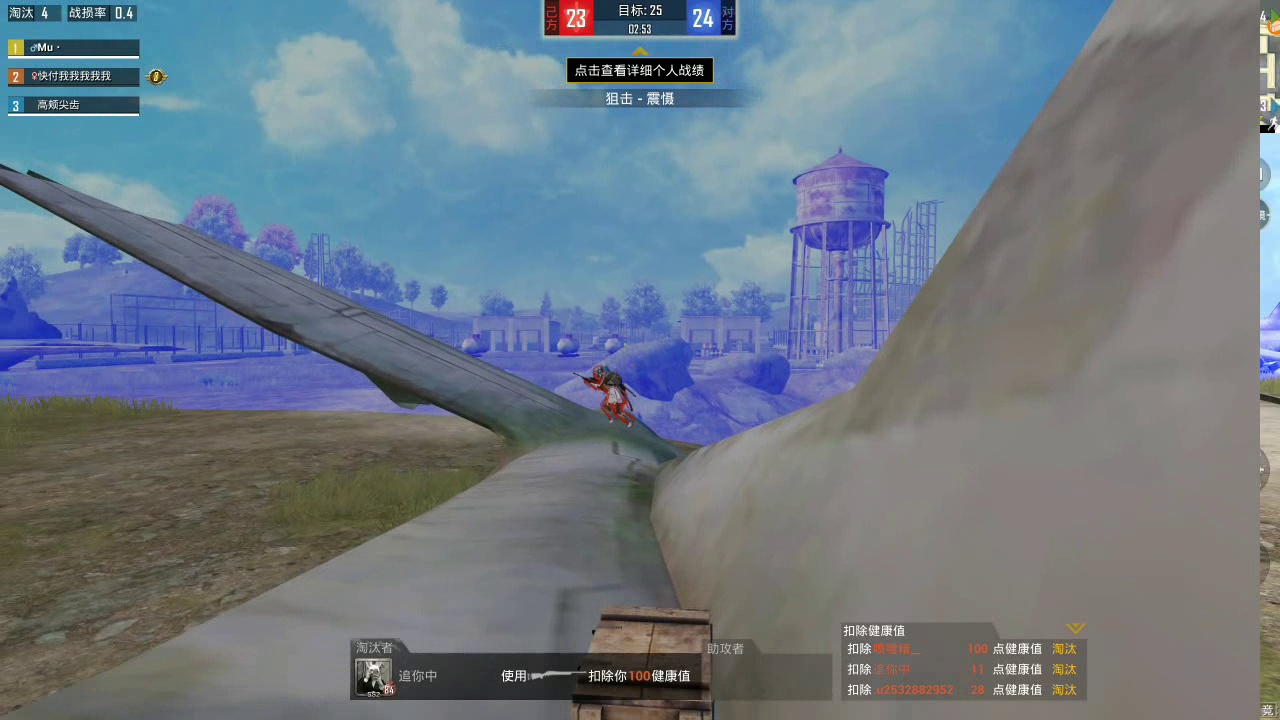enemy: (591, 364, 627, 426)
